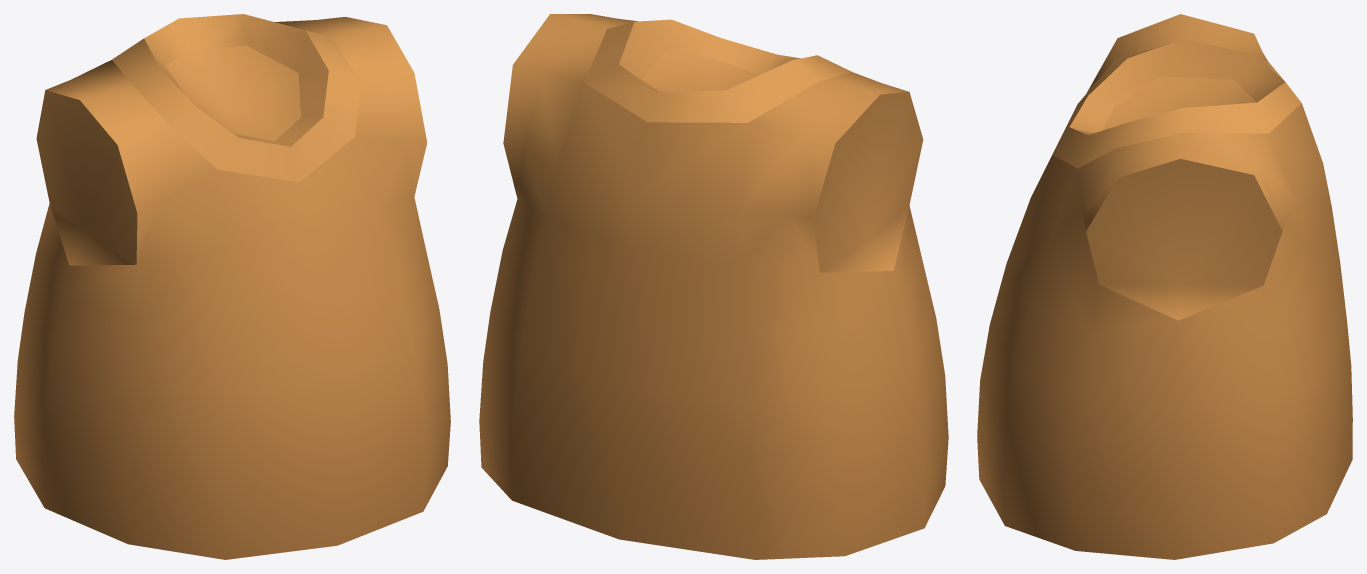
File: Top_60.fbx
3 renders of one model, left to right at view 1: azimuth 30°, elevation 25°; view 2: azimuth 150°, elevation 25°; view 3: azimuth 270°, elevation 25°, orthographic. The views are drawn at different scales.
Visible parts, largest first — view 1: Top_60; view 2: Top_60; view 3: Top_60.
Boxes of the visible parts, <box> form: Top_60: <box>14,14,450,559</box>; Top_60: <box>479,14,948,559</box>; Top_60: <box>977,14,1352,559</box>.
Size of the model in its own units: 41 by 42.68 by 35.79.
